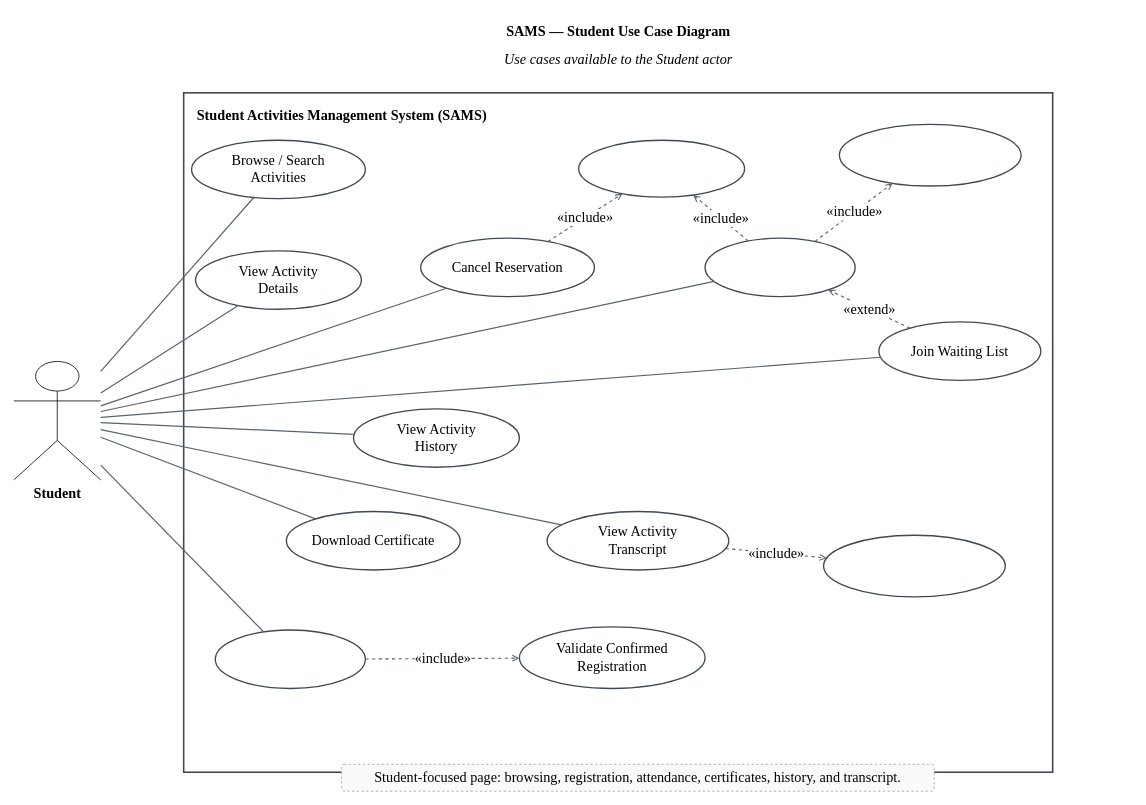
Image size: 1146x805. Some labels were removed from this diagram. Each missing label, with the centre of its shape:
Generate Activity Transcript: point 914,565
Reserve Seat: point 779,267
Scan QR Code: point 290,659
Send Notification: point 661,168
Validate Eligibility & Deadline: point 929,154
